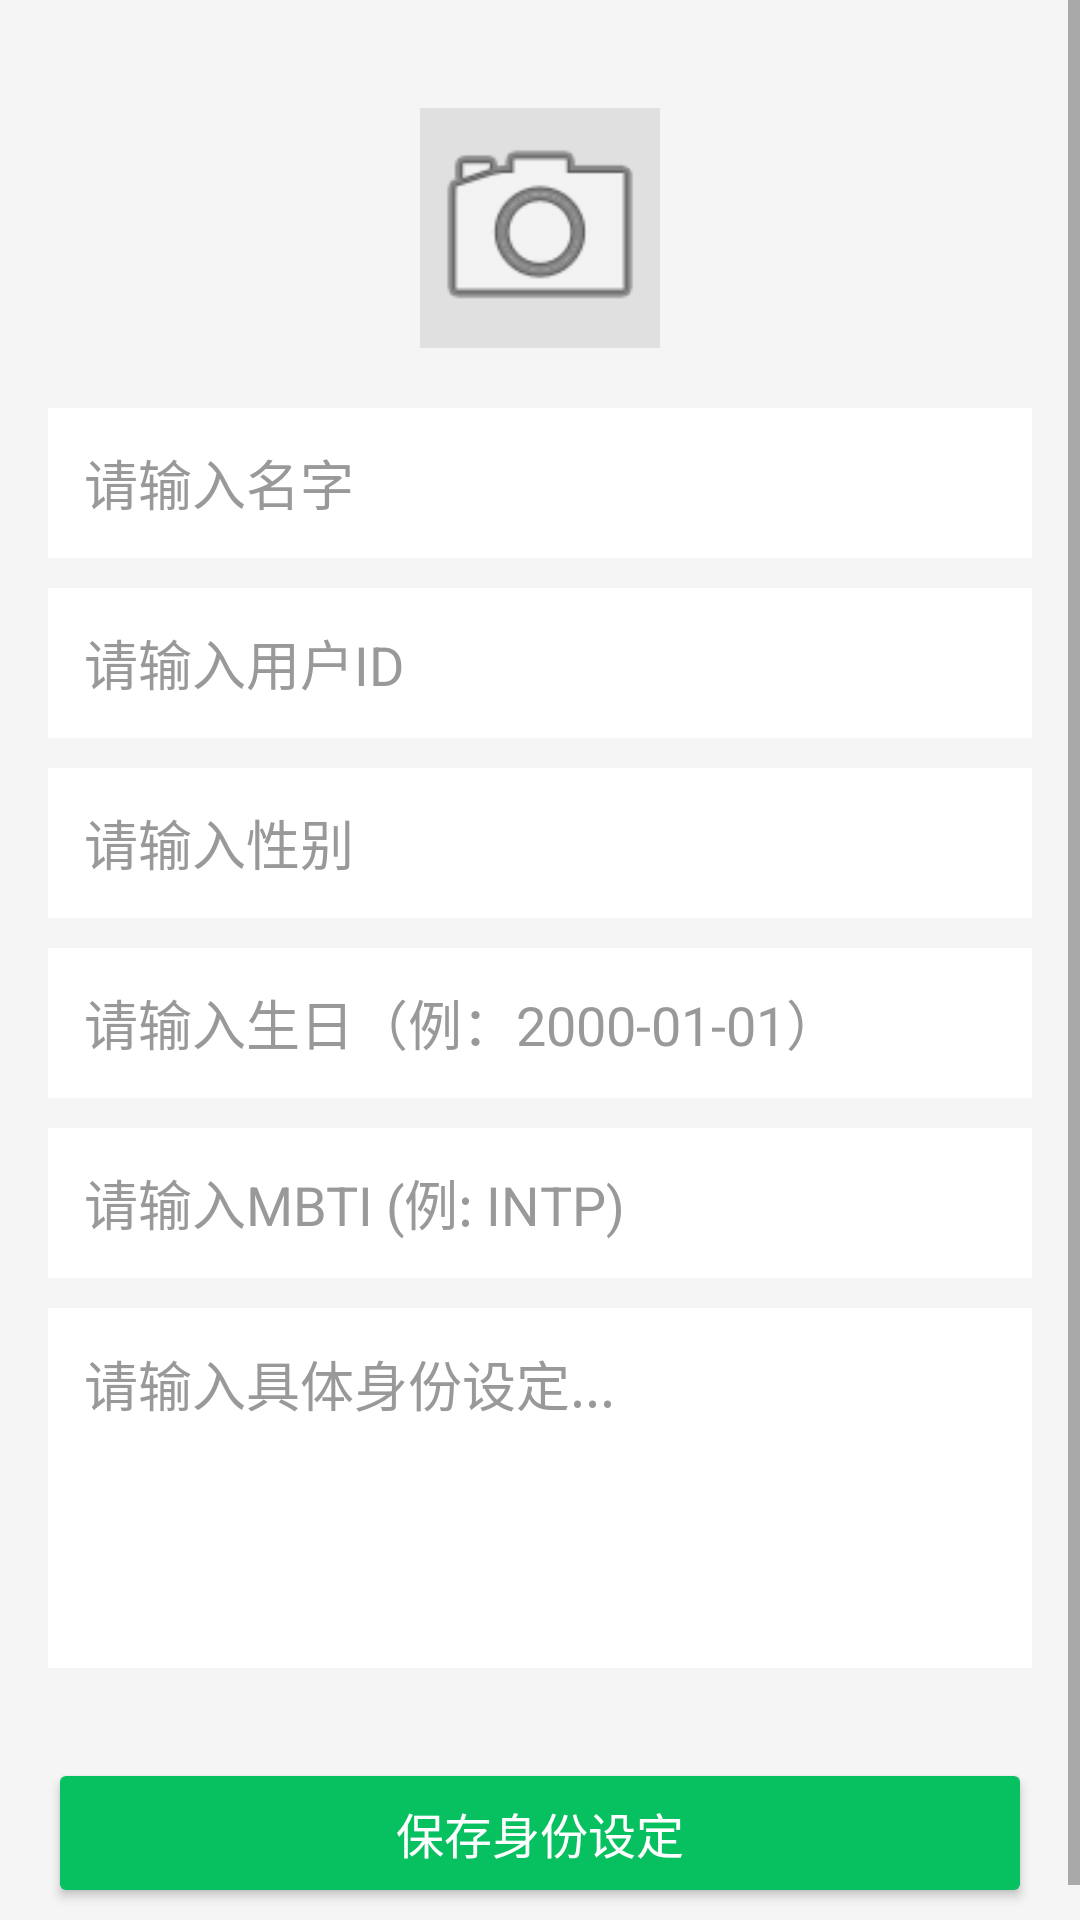

Icon click points for this 1080 × 1920 phone screenshot, format (x=x, y=y):
camera: (x=540, y=228)
